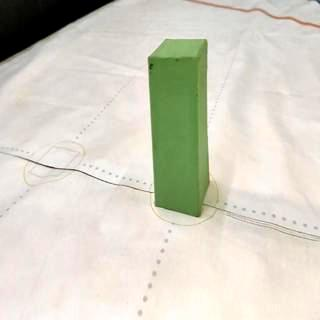greenbox: (148, 37, 210, 217)
